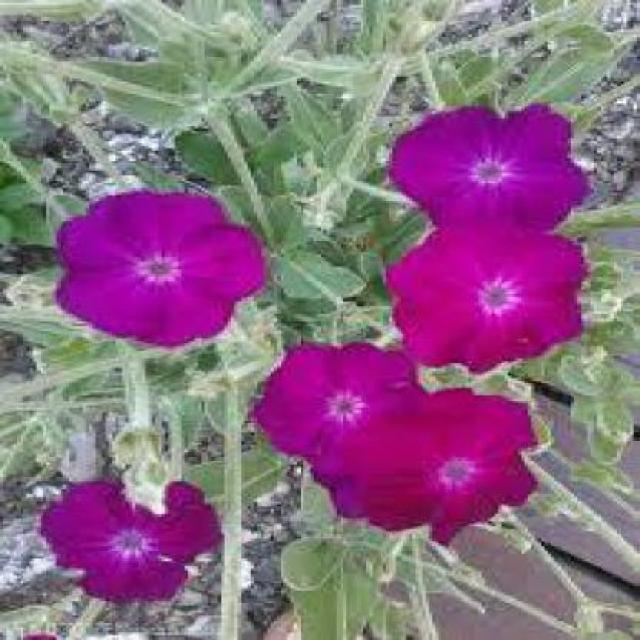flower: (52, 183, 268, 342), (347, 375, 538, 543), (381, 220, 596, 366), (255, 351, 448, 492), (401, 102, 596, 236), (49, 473, 228, 604)
